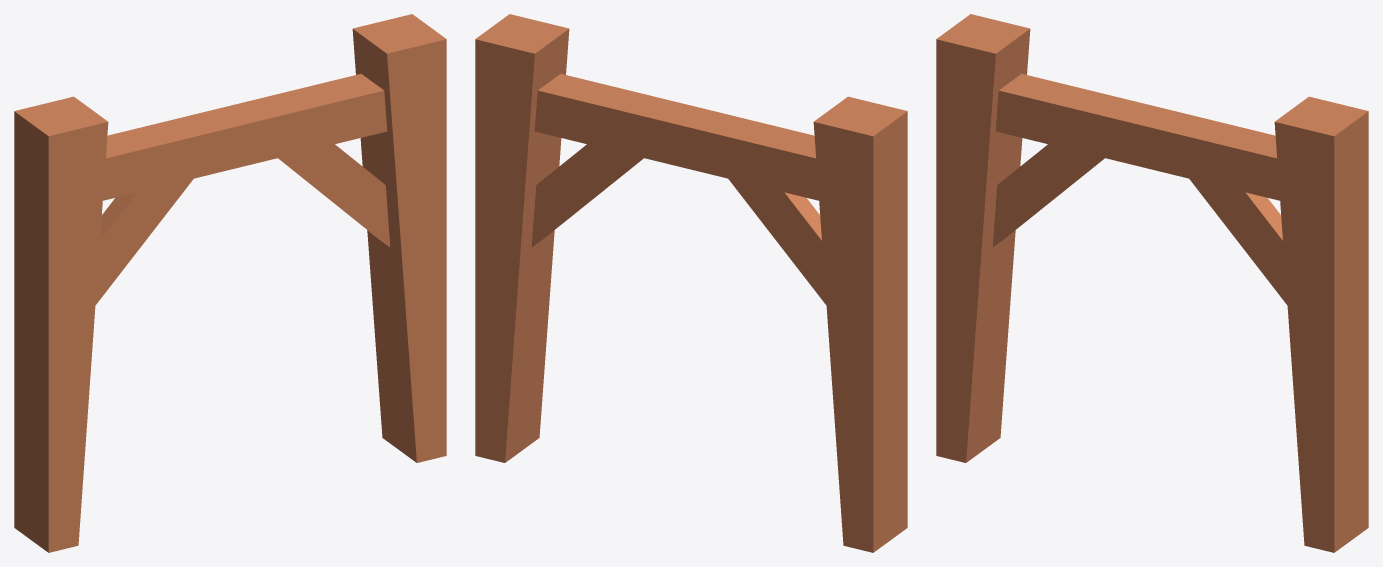
Rendered from wood-support.glb.
The picture shows the model from 3 angles, left to right: view 1: azimuth 30°, elevation 25°; view 2: azimuth 150°, elevation 25°; view 3: azimuth 330°, elevation 25°; orthographic projection.
Visible parts, largest first — view 1: wood-support; view 2: wood-support; view 3: wood-support.
Part boxes in pixels (bbox=[...]): wood-support: bbox=[14, 14, 446, 552]; wood-support: bbox=[475, 14, 907, 552]; wood-support: bbox=[936, 14, 1368, 552].
Bounding box in the file's own units: 1 × 1 × 0.15.
